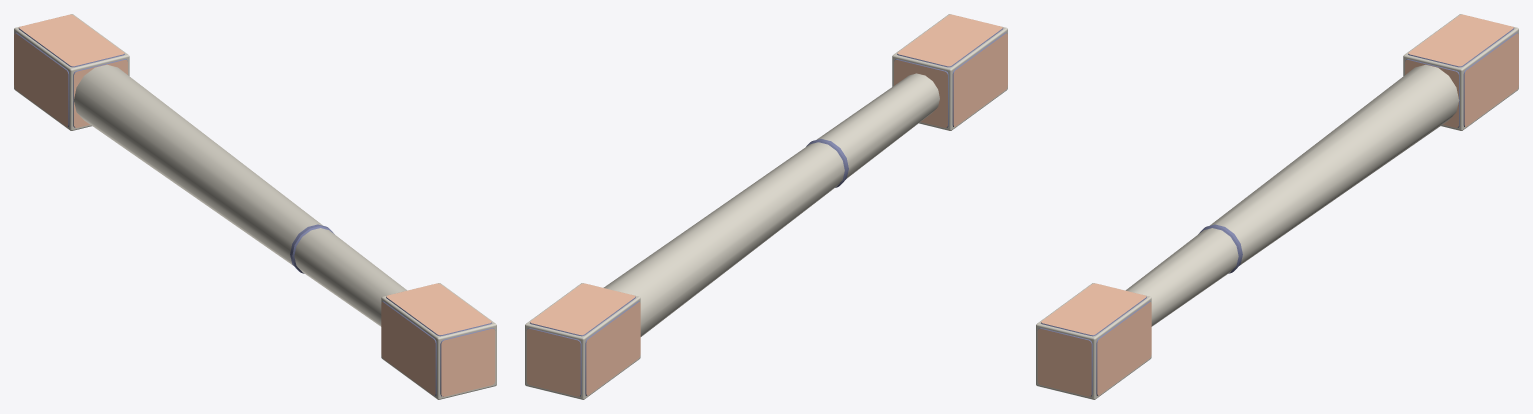
File: R4C_ROD_LONG.fbx
3 renders of one model, left to right at view 1: azimuth 30°, elevation 25°; view 2: azimuth 150°, elevation 25°; view 3: azimuth 330°, elevation 25°, orthographic.
Parts seen in each view (by area): view 1: R4C_ROD_LONG; view 2: R4C_ROD_LONG; view 3: R4C_ROD_LONG.
Part boxes in pixels (box(x1,y1,x2,y2)): R4C_ROD_LONG: box(14, 14, 496, 399); R4C_ROD_LONG: box(525, 14, 1007, 399); R4C_ROD_LONG: box(1036, 14, 1518, 399).
Bounding box in the file's own units: 0.226 × 0.226 × 2.72.
